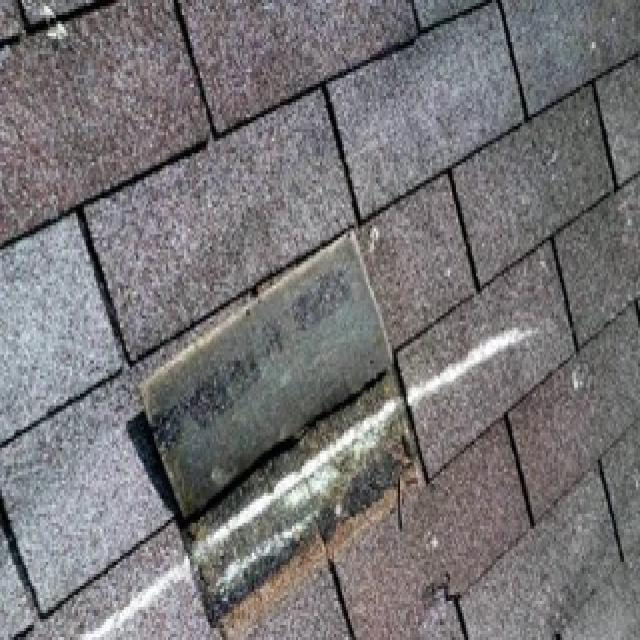damage: (126, 213, 443, 636)
